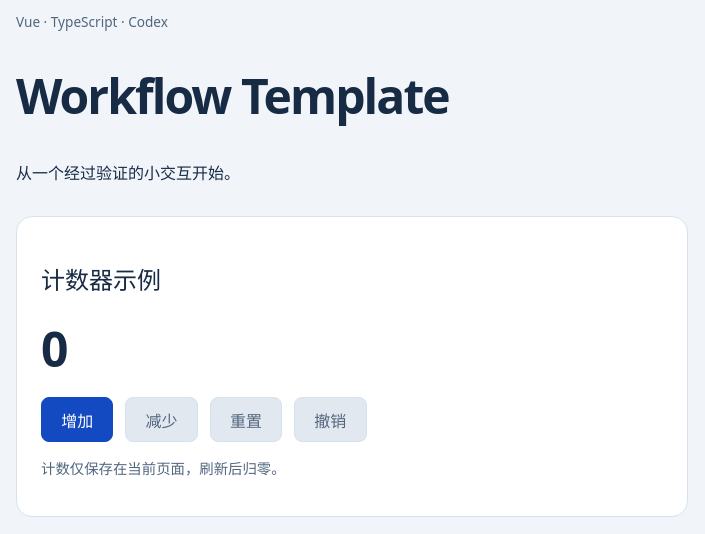
Test case: starter counter › decreases to zero and disables decrease at the lower bound
This screenshot has width=705, height=534.
Check: the text "0" is shown, box [41,316,68,381]
Check: the button "减少" is disabled, box [125,397,198,442]
Click the button "增加": (77, 420) [41,397,113,442]
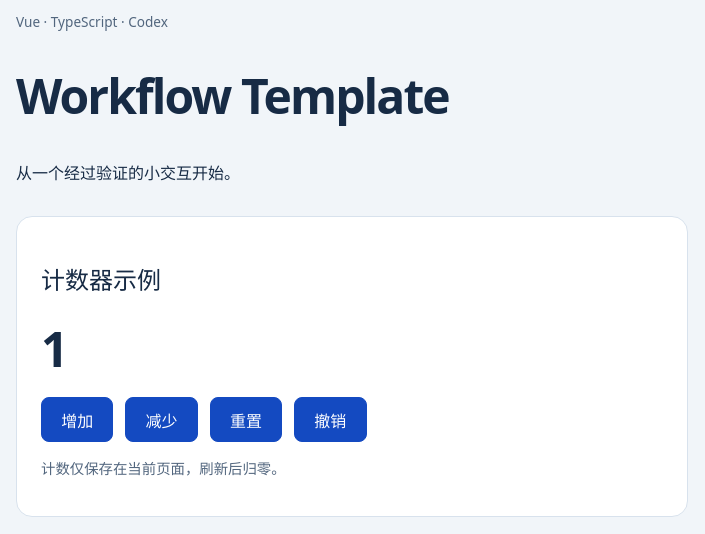
Click the button "增加": (77, 420) [41,397,113,442]
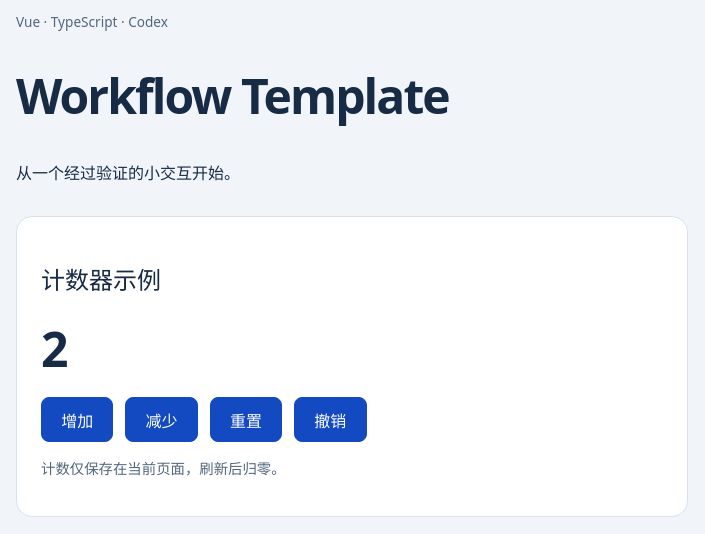
Check: the text "2" is shown, box [41,316,68,381]
Click the button "减少": (162, 420) [125,397,198,442]
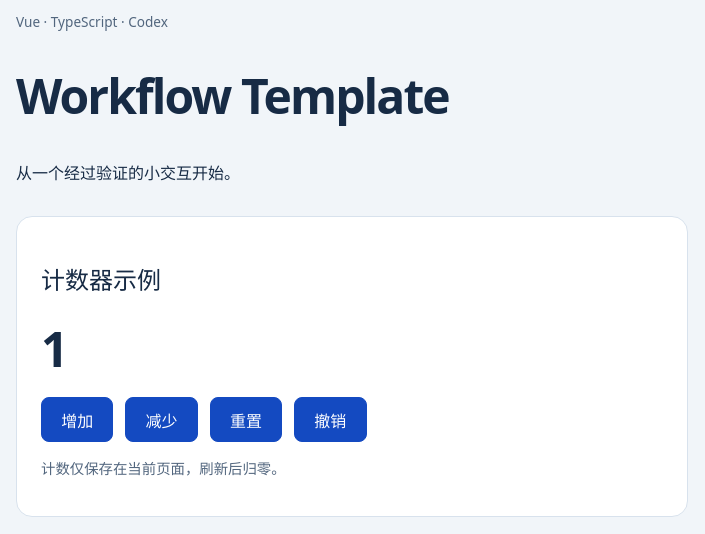
Check: the text "1" is shown, box [41,316,68,381]
Click the button "减少": (162, 420) [125,397,198,442]
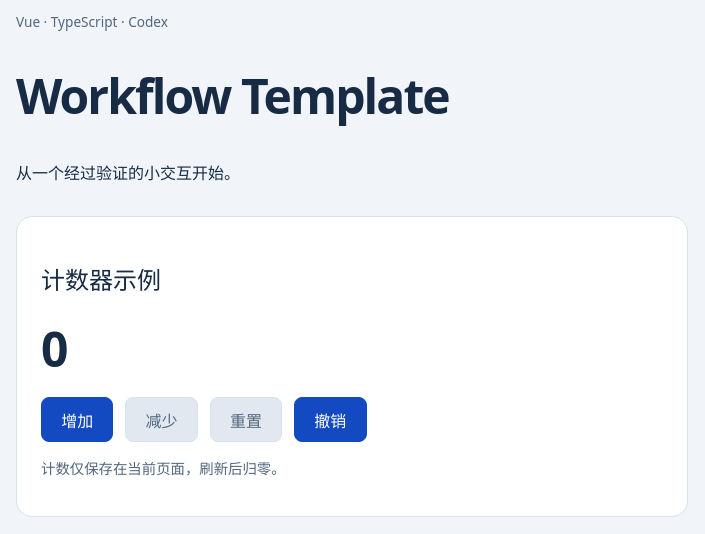
Check: the text "0" is shown, box [41,316,68,381]
Check: the button "减少" is disabled, box [125,397,198,442]
Check: the button "重置" is disabled, box [210,397,282,442]
